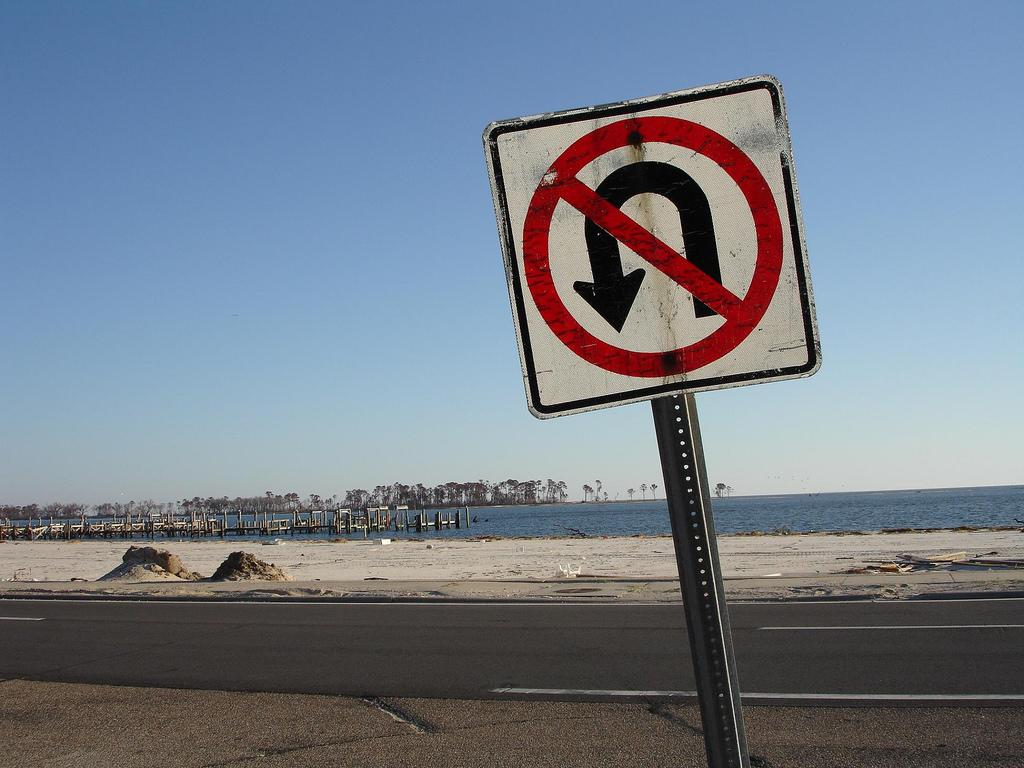no_u_turn: (520, 115, 784, 375)
